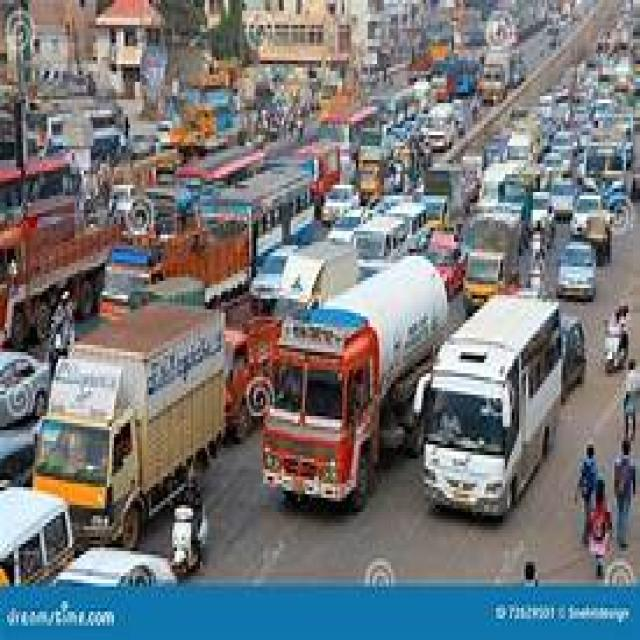Bus: (426, 298, 564, 515)
Car: (251, 244, 296, 303), (557, 243, 595, 299)
Truck: (34, 256, 445, 545), (0, 201, 119, 345), (100, 215, 253, 310)
Two Wheeler: (173, 504, 194, 568)
